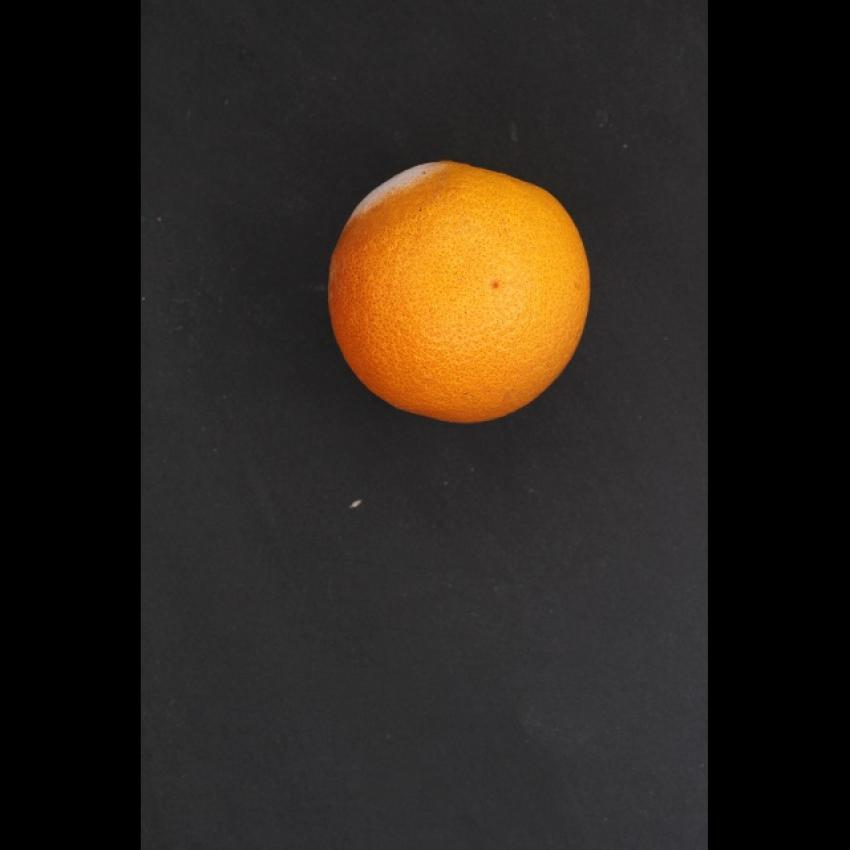Mal estado: (321, 137, 594, 437)
